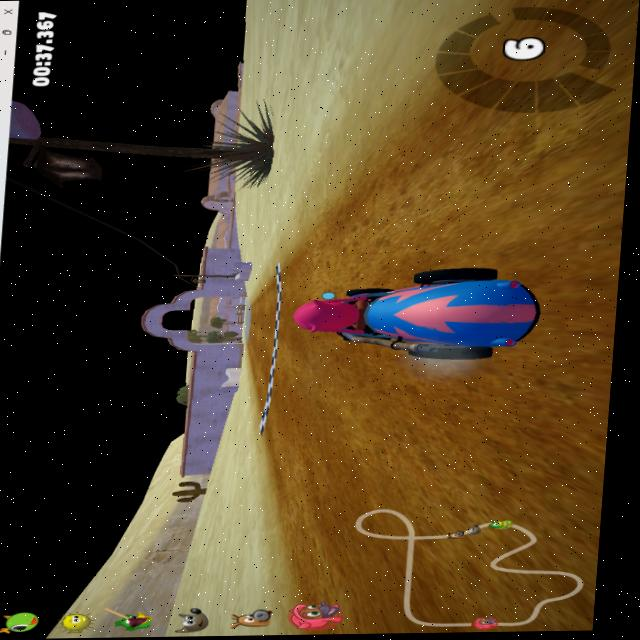player_kart: (296, 265, 543, 366)
track: (440, 360, 613, 633), (298, 364, 456, 634), (535, 0, 640, 360), (470, 0, 567, 264), (342, 148, 479, 266), (277, 364, 317, 581), (411, 61, 485, 146), (265, 341, 284, 481), (239, 297, 294, 342), (312, 185, 346, 239), (249, 344, 271, 426), (291, 239, 344, 272), (259, 276, 298, 297)
